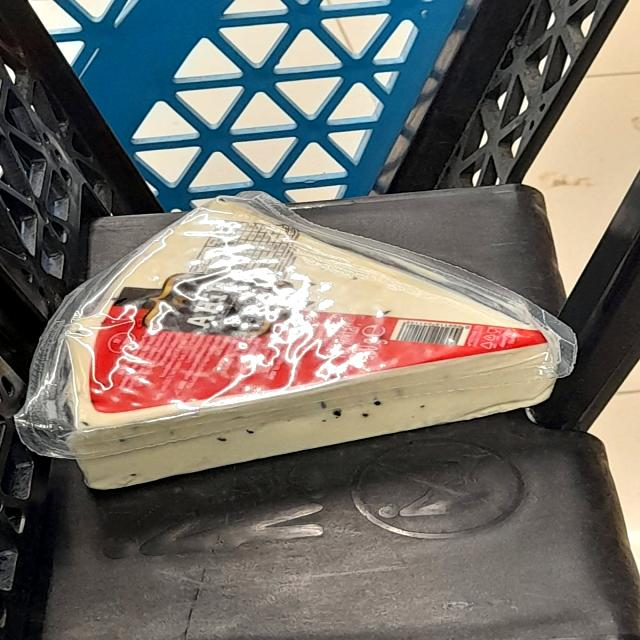cheese: (52, 211, 568, 479)
